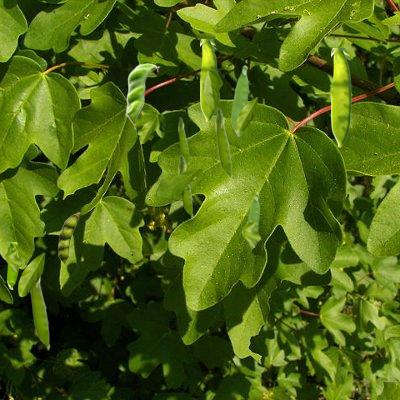pea: (125, 63, 159, 129), (331, 48, 350, 146), (30, 278, 49, 349), (200, 39, 216, 121), (58, 212, 80, 266), (215, 108, 231, 178), (231, 65, 247, 135), (178, 155, 192, 217), (247, 193, 258, 247), (7, 242, 17, 288), (178, 117, 188, 163)
